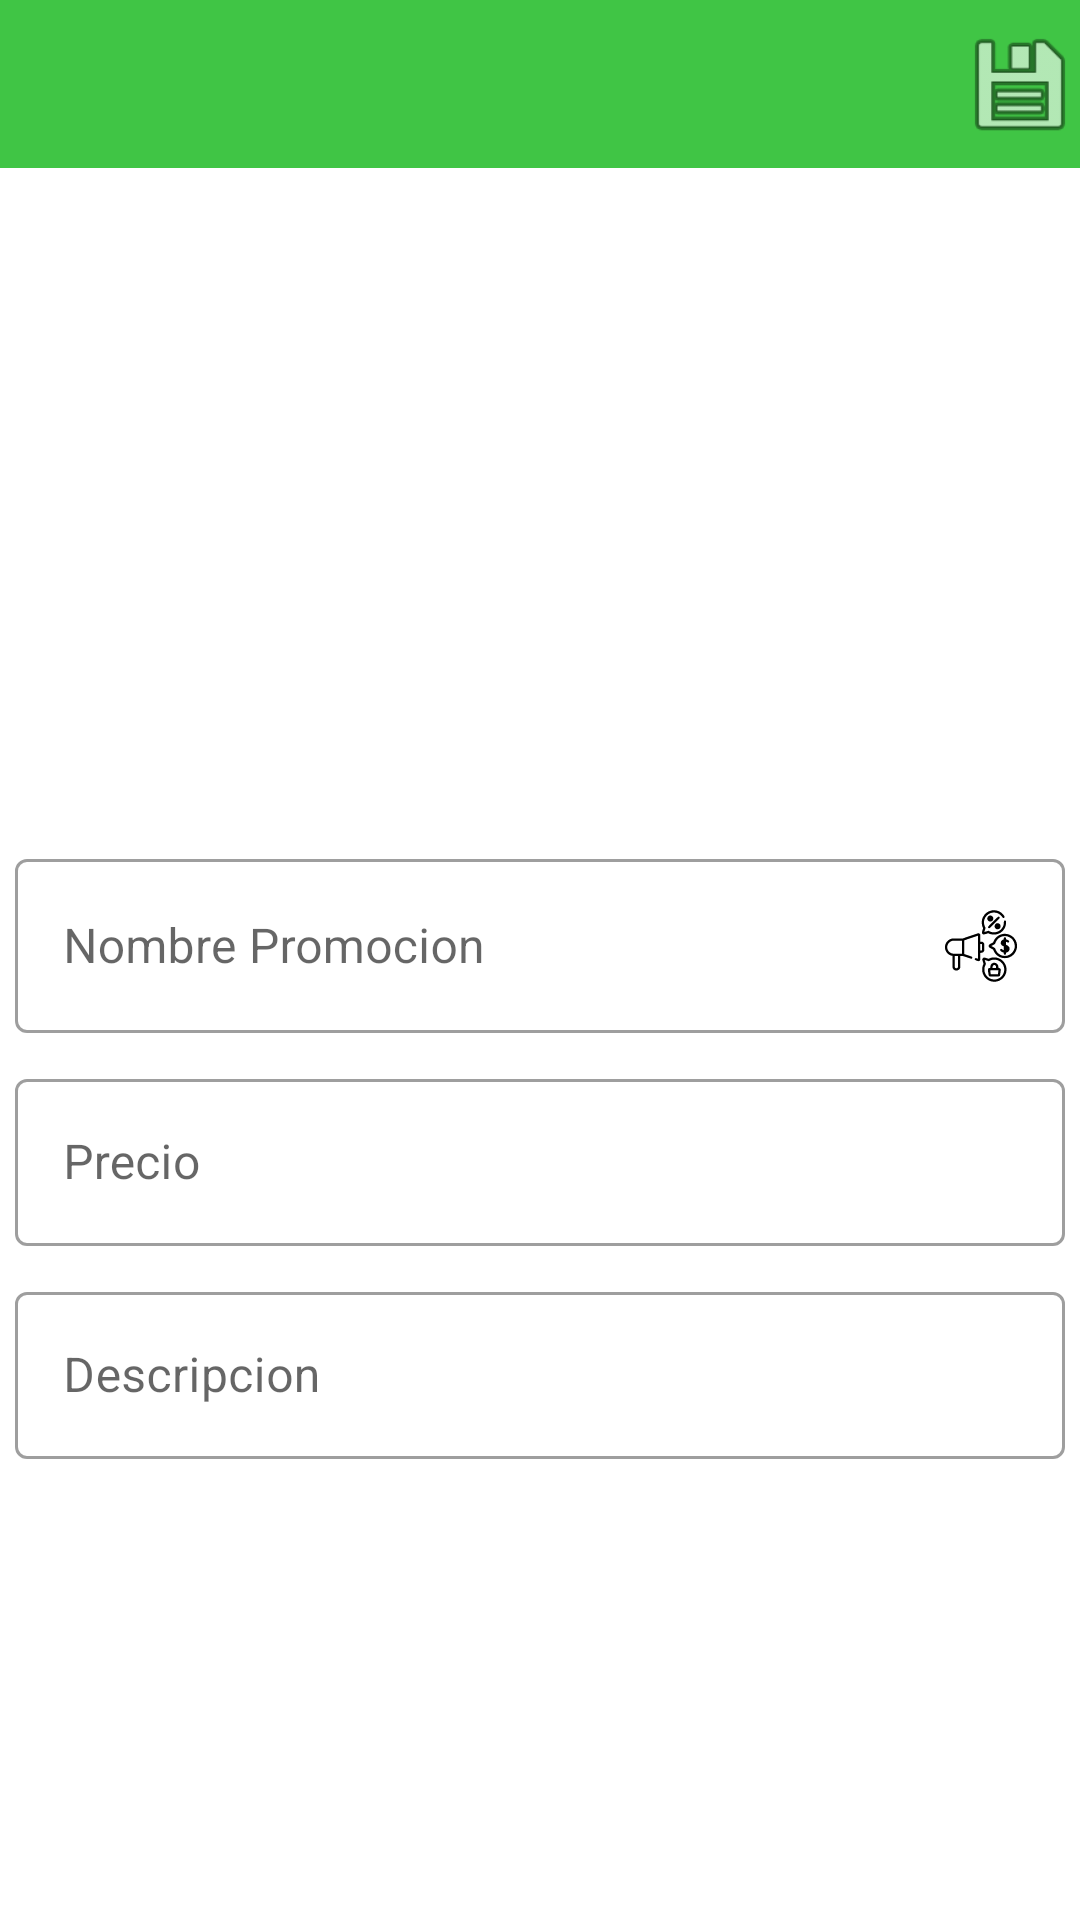

Point at icon controls on the screen. Image size 1080*1920, points as (x=x, y=y).
save: (x=1020, y=84)
